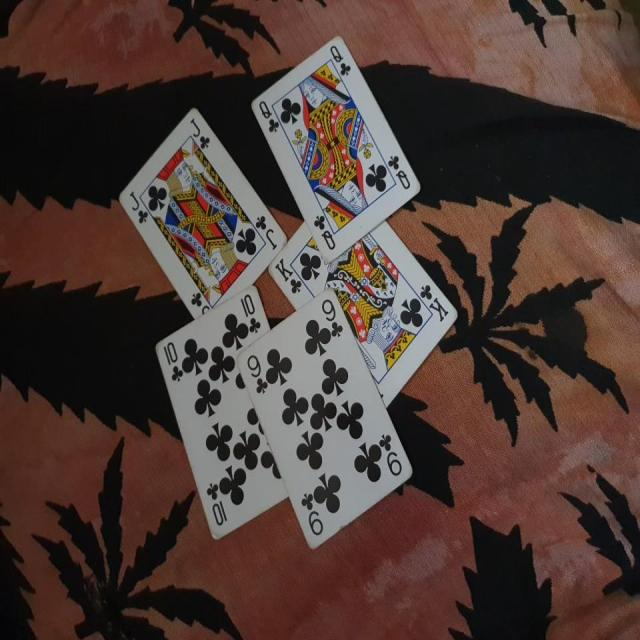10 Trefoils: (149, 285, 288, 546)
9 Trefoils: (236, 286, 413, 553)
J Trefoils: (117, 104, 289, 319)
K Trefoils: (266, 219, 458, 408)
Q Trefoils: (248, 34, 422, 260)
